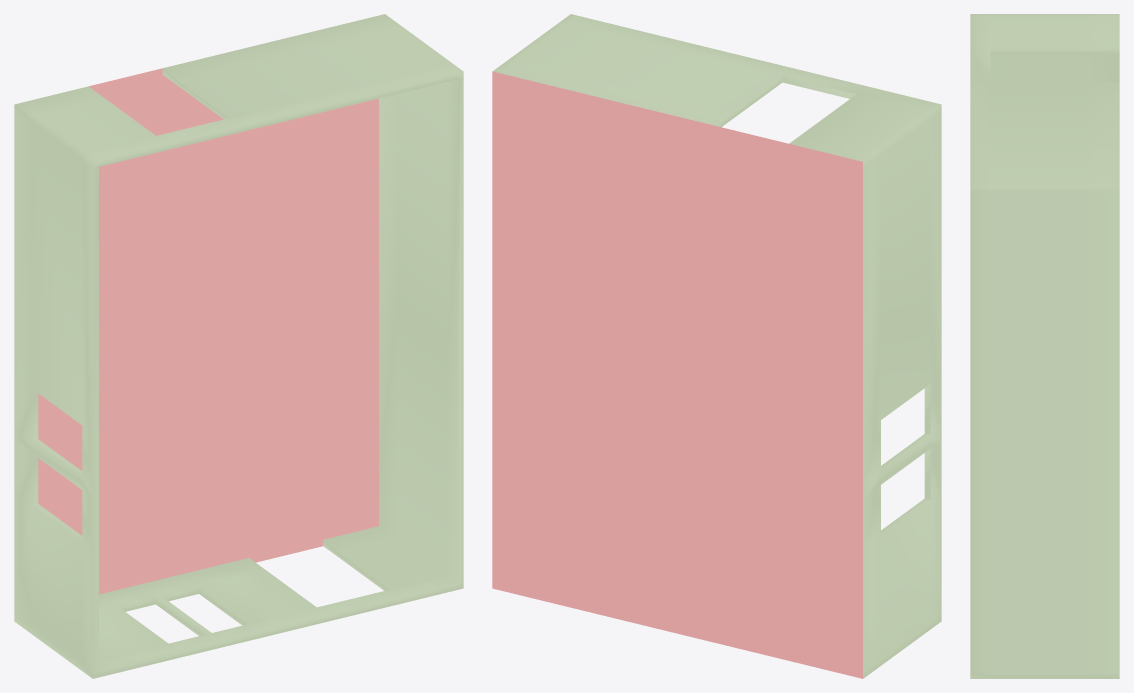
The model's file is room2_xna.fbx.
The picture shows the model from 3 angles, left to right: view 1: azimuth 30°, elevation 25°; view 2: azimuth 150°, elevation 25°; view 3: azimuth 270°, elevation 25°; orthographic projection. The views are drawn at different scales.
Parts seen in each view (by area): view 1: Plane, Cube; view 2: Plane, Cube; view 3: Cube.
Part boxes in pixels (x1=…): Plane: x1=38, y1=68, x2=378, y2=594; Cube: x1=14, y1=14, x2=463, y2=678; Plane: x1=492, y1=71, x2=862, y2=678; Cube: x1=492, y1=14, x2=941, y2=678; Cube: x1=970, y1=14, x2=1119, y2=678.
Size of the model in its own units: 6 by 8 by 2.2.
